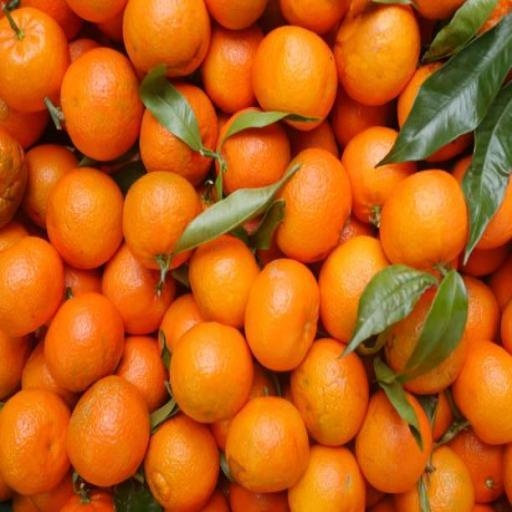orange: (379, 170, 470, 275), (250, 26, 339, 133), (62, 50, 142, 165), (337, 0, 421, 108), (67, 380, 150, 489), (275, 149, 353, 264), (292, 337, 373, 446), (246, 259, 322, 373), (137, 83, 220, 184), (124, 172, 205, 272), (227, 395, 311, 491), (46, 170, 126, 269), (171, 322, 251, 421), (360, 391, 434, 498), (47, 295, 127, 393), (0, 7, 73, 112), (0, 389, 71, 496), (121, 0, 211, 80), (148, 417, 222, 511)
